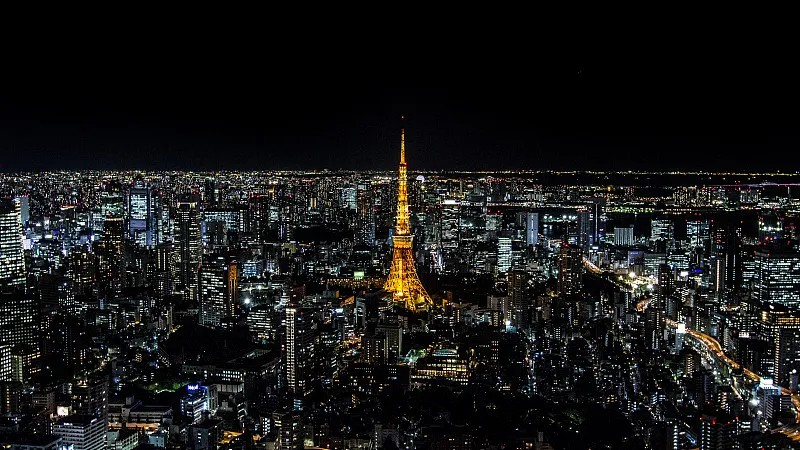Tokyo: (383, 115, 434, 315)
